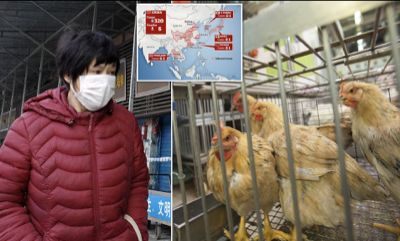with-mask: (63, 38, 121, 111)
